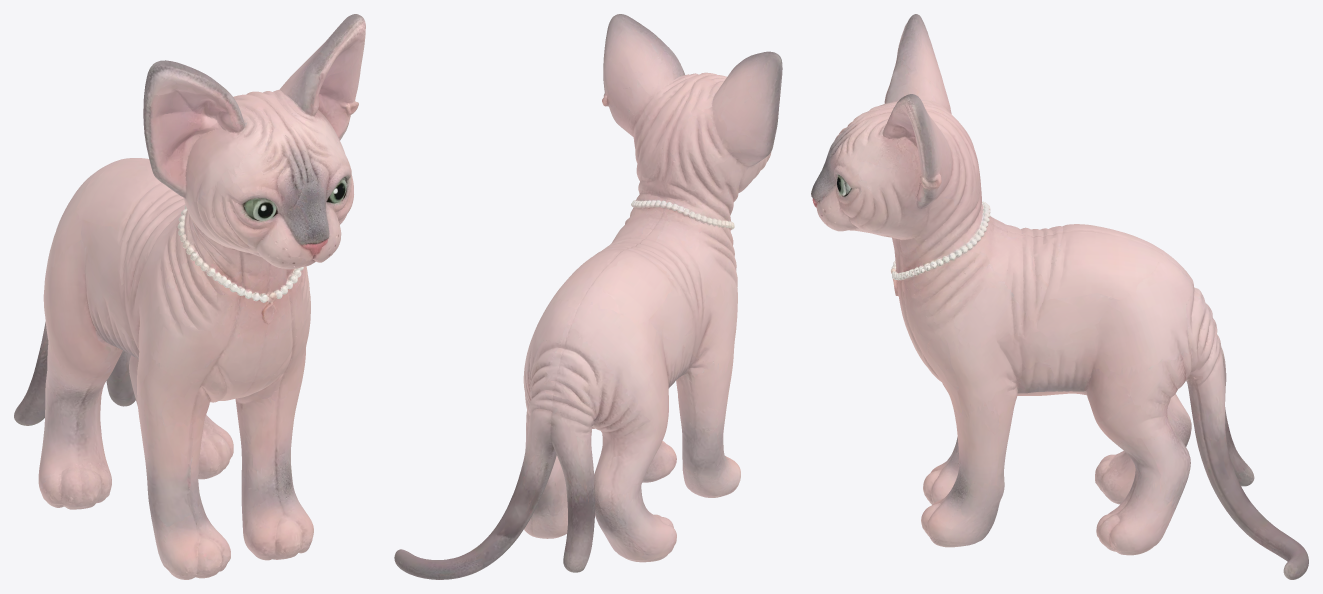
The model's file is meshy-donskoy.glb.
3 renders of one model, left to right at view 1: azimuth 30°, elevation 25°; view 2: azimuth 150°, elevation 25°; view 3: azimuth 270°, elevation 25°, orthographic. The views are drawn at different scales.
Visible parts, largest first — view 1: Mesh_0; view 2: Mesh_0; view 3: Mesh_0.
Part boxes in pixels (bbox=[...]): Mesh_0: bbox=[14, 14, 365, 579]; Mesh_0: bbox=[394, 14, 782, 579]; Mesh_0: bbox=[811, 14, 1308, 579].
Size of the model in its own units: 0.9697 by 1.9 by 1.84.
1 material, 1 textured.
